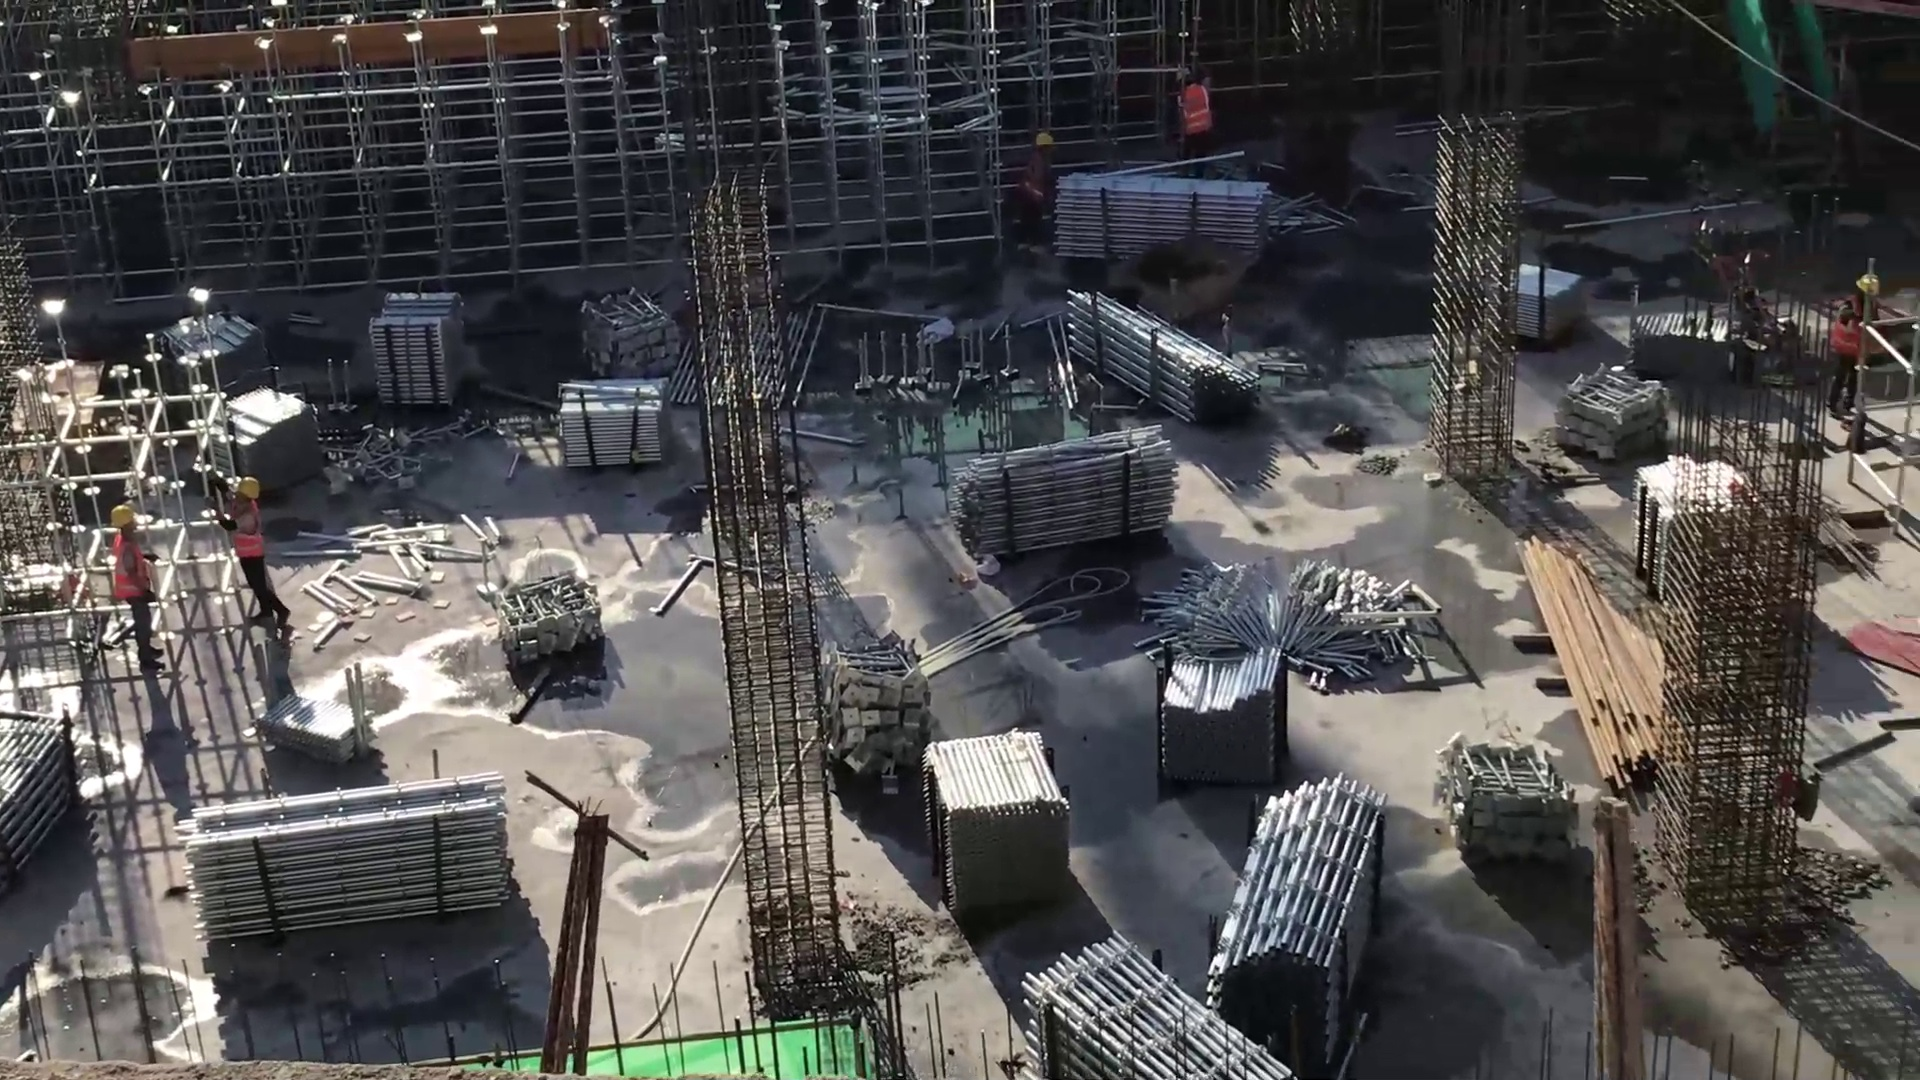helmet: (232, 473, 265, 499), (111, 510, 132, 524)
person: (92, 501, 173, 680), (220, 472, 283, 622), (1825, 257, 1882, 420), (1159, 60, 1217, 157), (1024, 133, 1070, 250)
scaffold: (188, 760, 531, 920), (1224, 787, 1381, 1046), (1023, 934, 1295, 1080), (925, 727, 1065, 914), (1074, 288, 1262, 419), (967, 446, 1185, 543), (1061, 170, 1279, 265), (1148, 651, 1286, 791), (369, 288, 470, 404), (555, 384, 688, 458), (1632, 466, 1678, 592)
vest: (110, 540, 150, 606), (227, 509, 263, 559)
wood: (1527, 542, 1675, 804)
